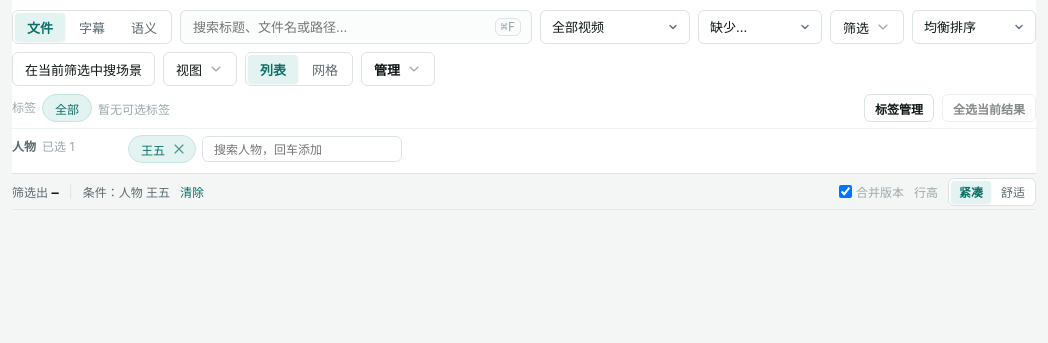
人物筛选组合框（META-02） › META-02 键盘上下选、回车添加；人物搜索失败给中文提示
Focus the dropdown with test id "person-filter-search" at [302, 149], box [202,136,402,162]
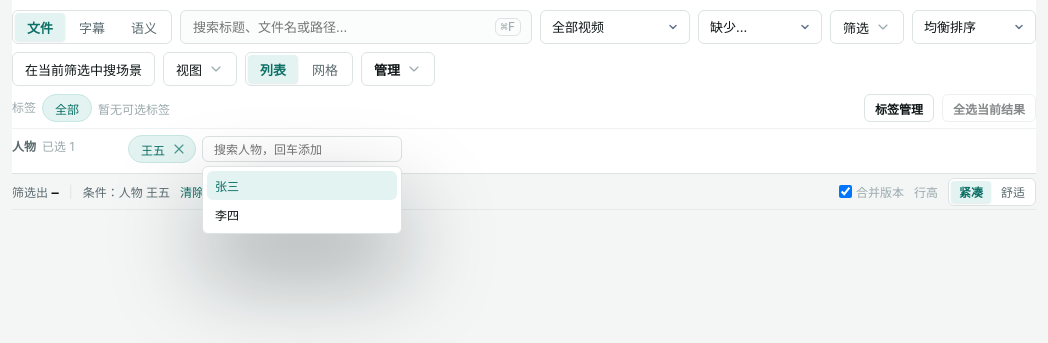
Press ArrowDown in the dropdown with test id "person-filter-search", box [202,136,402,162]
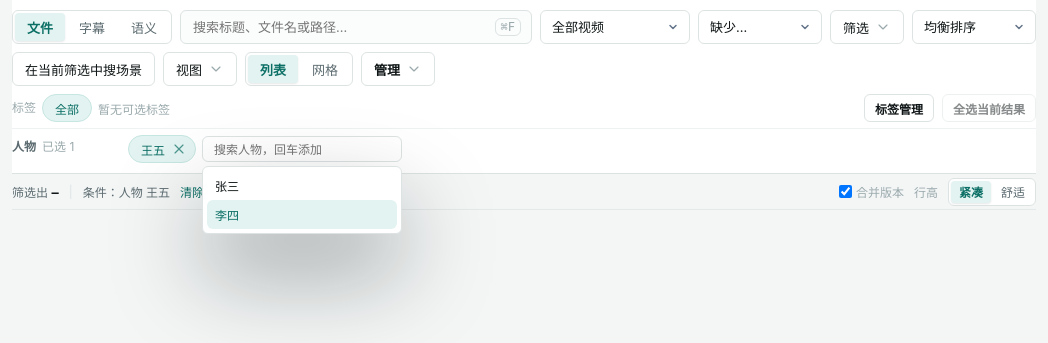
Press Enter in the dropdown with test id "person-filter-search", box [202,136,402,162]
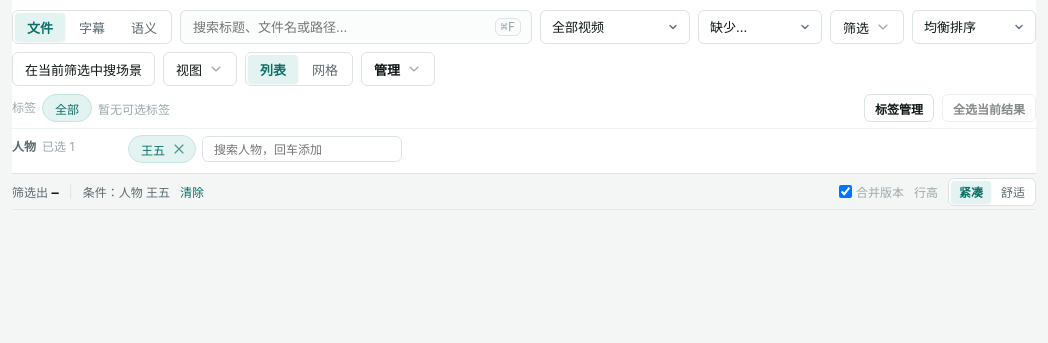
Focus the dropdown with test id "person-filter-search" at [302, 149], box [202,136,402,162]
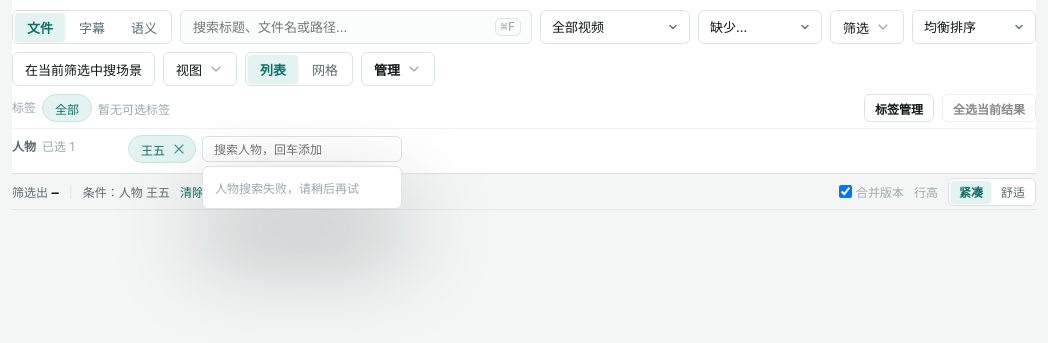
Now the list with test id "person-filter-options" shows "人物搜索失败", box [215,181,359,196]
